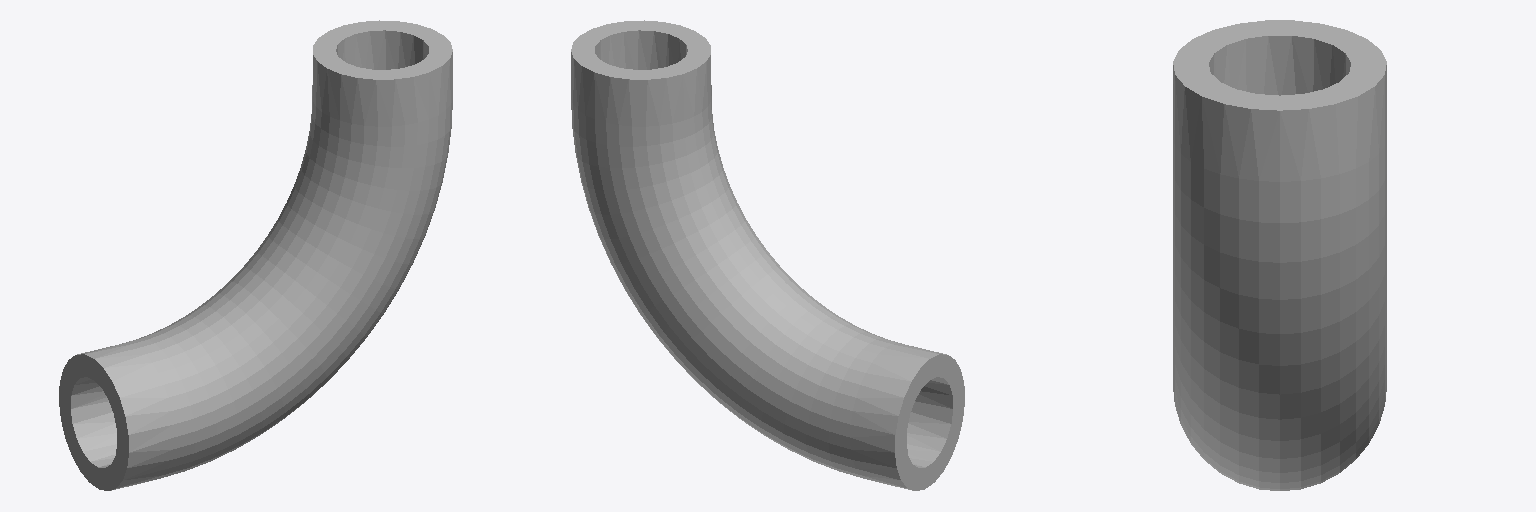
robot.urdf — 90elbow_200_3:
<robot
  name="90elbow_200_3">
  <link
    name="90elbow_200_3">
    <inertial>
      <origin
        xyz="-0.11588 0.18412 8.40989998872627E-09"
        rpy="0 0 0" />
      <mass
        value="5.7063" />
      <inertia
        ixx="0.0906631653008137"
        ixy="-0.0608478546239511"
        ixz="8.46000393855595E-08"
        iyy="0.0906631653008137"
        iyz="-8.46000393870327E-08"
        izz="0.15814450757059" />
    </inertial>
    <visual>
      <origin
        xyz="1.5707963267949 0 0"
        rpy="0 0 0" />
      <geometry>
        <mesh
          filename="package://cr_mit/URDF/90elbow_200_3/meshes/90elbow_200_3.STL" />
      </geometry>
      <material
        name="">
        <color
          rgba="0.7451 0.7451 0.7451 1" />
      </material>
    </visual>
    <collision>
      <origin
        xyz="0 0 0"
        rpy="1.5707963267949 0 0" />
      <geometry>
        <mesh
          filename="package://cr_mit/URDF/90elbow_200_3/meshes/90elbow_200_3.STL" />
      </geometry>
    </collision>
  </link>
</robot>

--- What the picture shows (computed from the rendered views, not written in the file) ---
The picture shows the robot from 3 angles, left to right: view 1: azimuth 30°, elevation 25°; view 2: azimuth 150°, elevation 25°; view 3: azimuth 270°, elevation 25°; orthographic projection.
Model 90elbow_200_3 with 1 links and 0 joints (none), rooted at 90elbow_200_3, posed all joints at 0.
Visible links, largest first — view 1: 90elbow_200_3; view 2: 90elbow_200_3; view 3: 90elbow_200_3.
Link boxes in pixels (x1=…): 90elbow_200_3: x1=59, y1=20, x2=452, y2=490; 90elbow_200_3: x1=571, y1=20, x2=964, y2=490; 90elbow_200_3: x1=1173, y1=20, x2=1386, y2=490.
Bounding box of the posed robot: 0.43 × 0.15 × 0.43 m (x, y, z).
1 mesh visuals loaded from 1 distinct referenced files (1 binary STL).